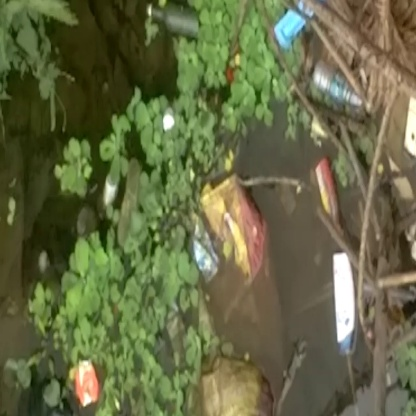bottle: (322, 253, 368, 357)
plastic-bag: (202, 183, 279, 275)
